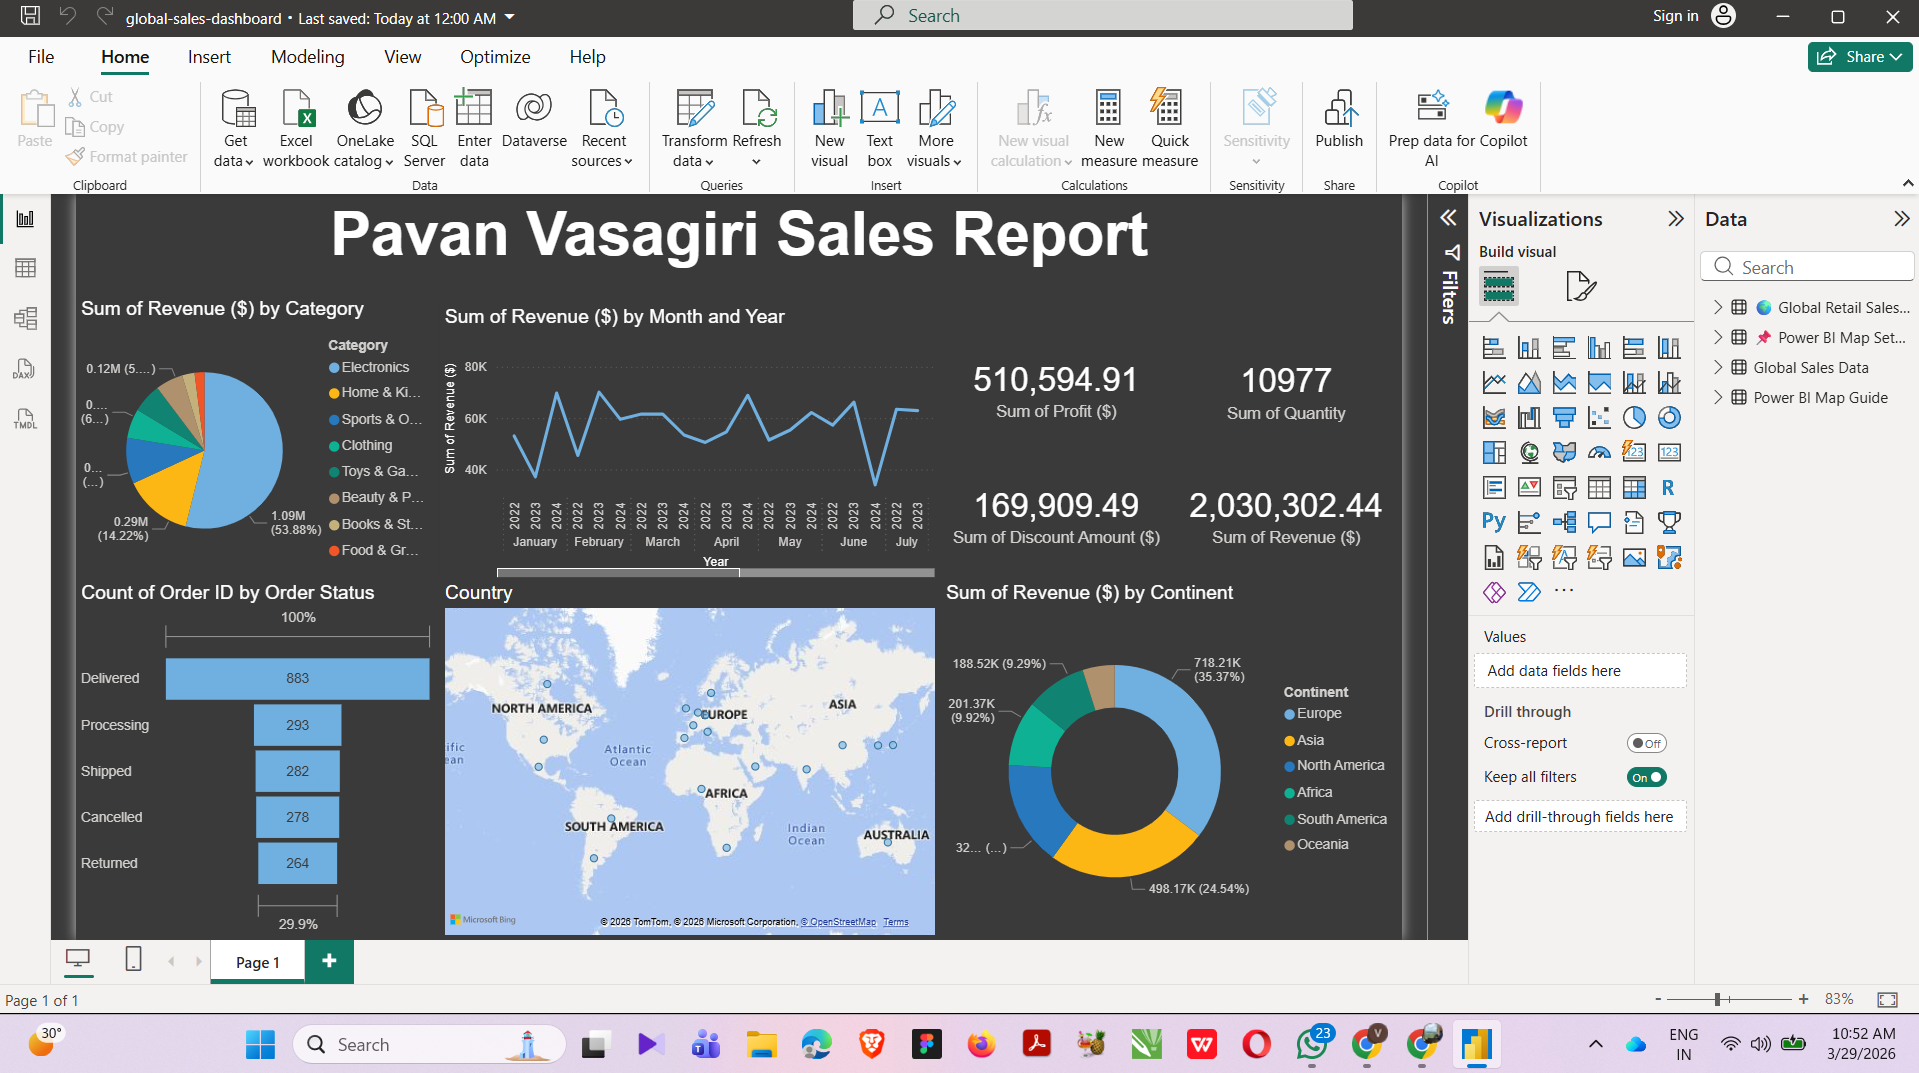

What the dashboard file says about the page in this screenshot:
{"tool":"powerbi","page":{"name":"Page 1","canvas":[1280,720],"ordinal":0},"visuals":[{"type":"donutChart","fields":{"Category":["Global Sales Data.Continent"],"Y":["Sum(Global Sales Data.Revenue ($))"]},"box":[834.3,374.3,445.7,345.7],"z":0},{"type":"funnel","fields":{"Category":["Global Sales Data.Order Status"],"Y":["Count(Global Sales Data.Order ID)"]},"box":[0,374.3,351.4,345.7],"z":1000},{"type":"map","fields":{"Category":["Global Sales Data.Country"]},"box":[351.4,374.3,482.9,345.7],"z":1001},{"type":"pieChart","fields":{"Category":["Global Sales Data.Category"],"Y":["Sum(Global Sales Data.Revenue ($))"]},"box":[0,100,351.4,274.3],"z":1002},{"type":"lineChart","fields":{"Category":["Global Sales Data.Order Date.Variation.Date Hierarchy.Month","Global Sales Data.Order Date.Variation.Date Hierarchy.Year"],"Y":["Sum(Global Sales Data.Revenue ($))"]},"box":[351.4,107.1,482.9,267.1],"z":1003},{"type":"card","fields":{"Values":["Sum(Global Sales Data.Discount Amount ($))"]},"box":[834.3,244.3,222.9,130],"z":1004},{"type":"card","fields":{"Values":["Sum(Global Sales Data.Profit ($))"]},"box":[834.3,128.6,222.9,115.7],"z":1005},{"type":"card","fields":{"Values":["Sum(Global Sales Data.Quantity)"]},"box":[1057.1,130,222.9,115.7],"z":1006},{"type":"card","fields":{"Values":["Sum(Global Sales Data.Revenue ($))"]},"box":[1057.1,244.3,222.9,130],"z":1007},{"type":"textbox","box":[0,0,1280,100],"z":1008}]}

Visuals, with their boxes on the page's 1280x720 design canvas (x1, y1, x2, y2). These are canvas units, not pixel positions in the 1919x1073 screenshot, which may show the page scaled, cropped or inside an application window:
donutChart - Global Sales Data.Continent x Sum(Global Sales Data.Revenue ($)): 834,374,1280,720
funnel - Global Sales Data.Order Status x Count(Global Sales Data.Order ID): 0,374,351,720
map - Global Sales Data.Country: 351,374,834,720
pieChart - Global Sales Data.Category x Sum(Global Sales Data.Revenue ($)): 0,100,351,374
lineChart - Global Sales Data.Order Date.Variation.Date Hierarchy.Month x Global Sales Data.Order Date.Variation.Date Hierarchy.Year: 351,107,834,374
card - Sum(Global Sales Data.Discount Amount ($)): 834,244,1057,374
card - Sum(Global Sales Data.Profit ($)): 834,129,1057,244
card - Sum(Global Sales Data.Quantity): 1057,130,1280,246
card - Sum(Global Sales Data.Revenue ($)): 1057,244,1280,374
textbox: 0,0,1280,100
